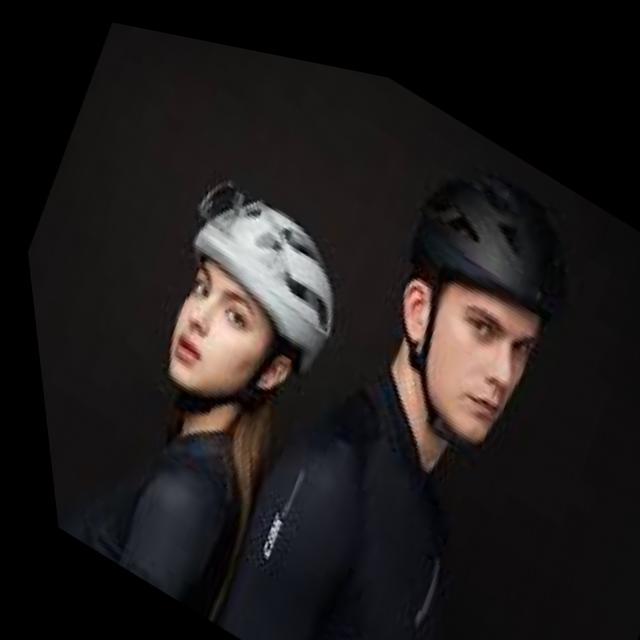Helmet: (140, 167, 339, 418), (386, 160, 556, 450)
